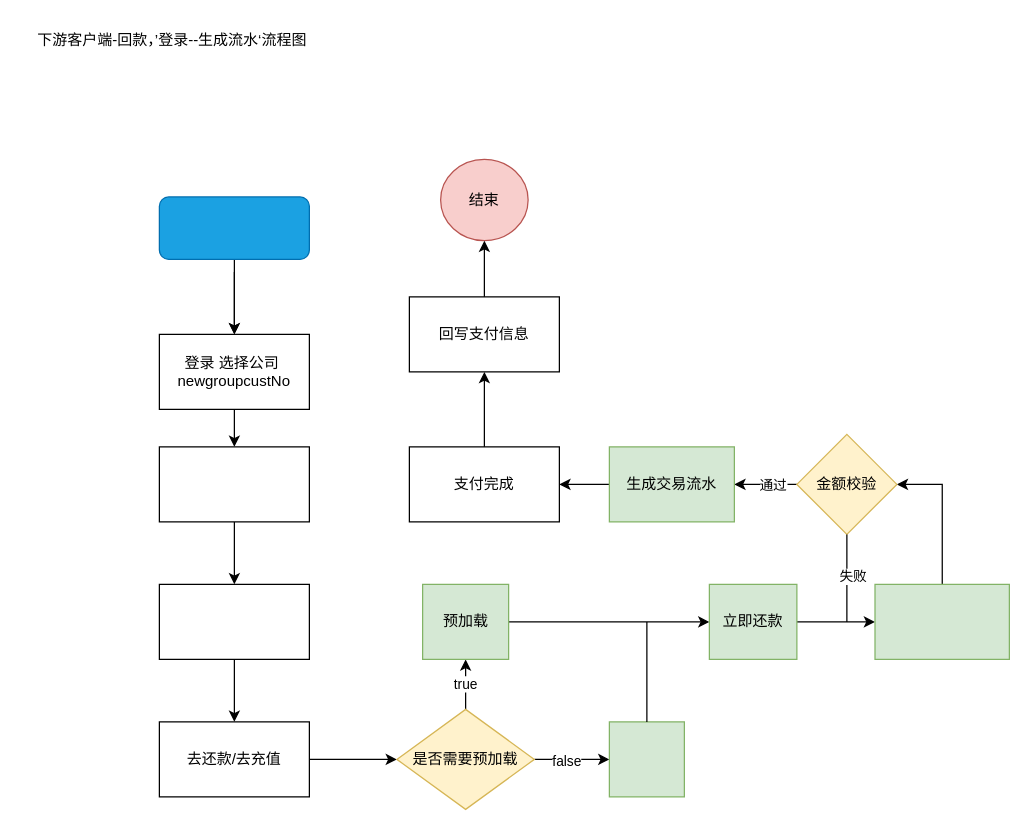
Image size: 1031x831. Some labels were removed from this diagram. Here are the shapes that lost their labels. From the top down, the centre of each, then its label:
At point 233,227: "入口".
At point 233,484: "进入 我的".
At point 233,621: "切换 九州通分公司 branchId".
At point 941,621: "修改回款金额明细".
At point 646,759: "直接读取".
